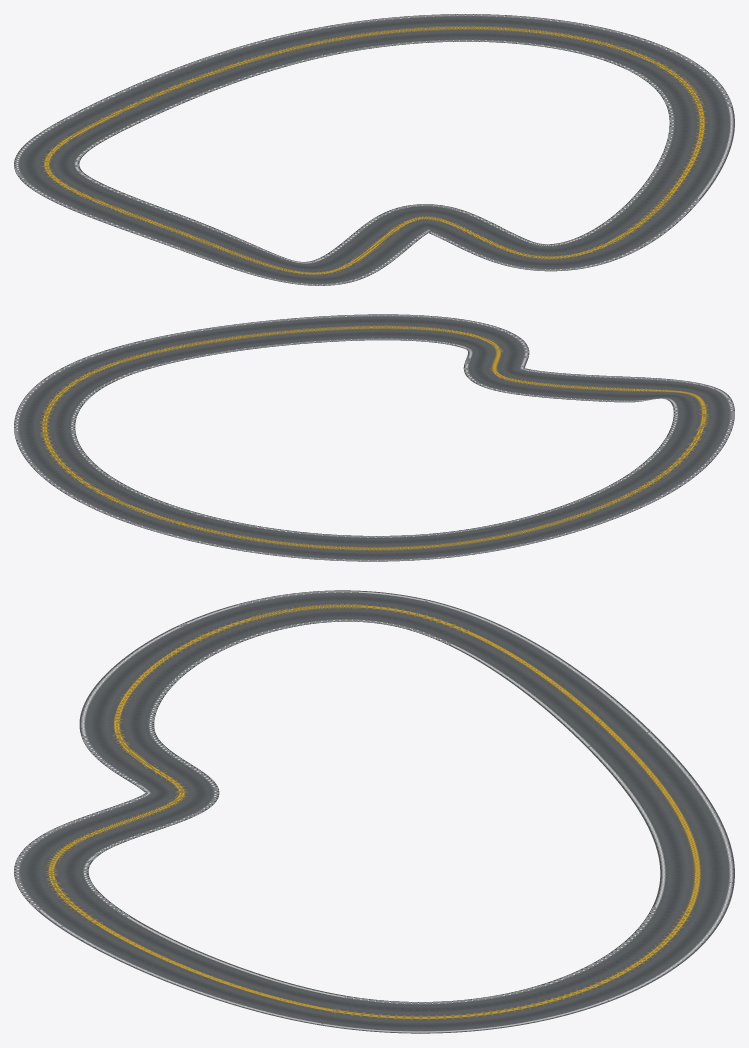
The model's file is pista.obj.
The picture shows the model from 3 angles, top to bottom: view 1: azimuth 30°, elevation 25°; view 2: azimuth 150°, elevation 25°; view 3: azimuth 270°, elevation 25°; orthographic projection. The views are drawn at different scales.
Visible parts, largest first — view 1: pista; view 2: pista; view 3: pista.
Part boxes in pixels (x1,y1,x2,y2): pista: [14, 14, 734, 285]; pista: [14, 314, 734, 561]; pista: [14, 590, 734, 1033].
Size of the model in its own units: 482 by 38.33 by 386.
